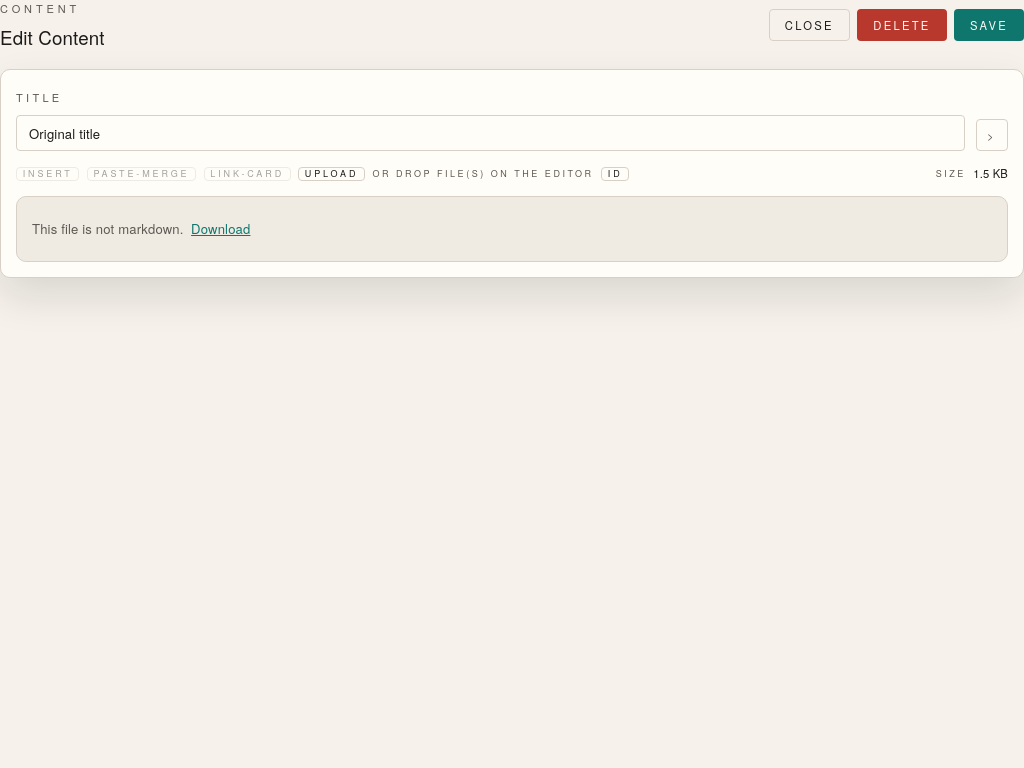
Scenario: ContentEditorView › saves and navigates away when save is selected
The width and height of the screenshot is (1024, 768).
Replace the text in the field labelled "Title" with "Updated title" at [490, 133], box [16,115,965,151]
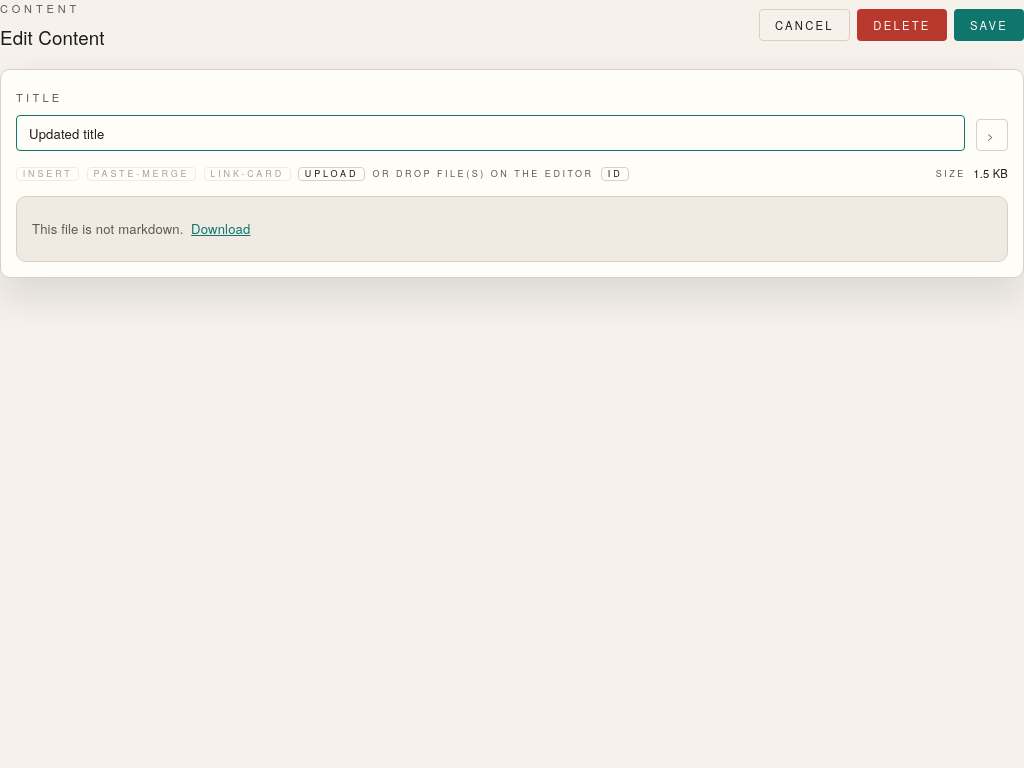
Click the button "Cancel" at [804, 25], box [759,9,850,41]
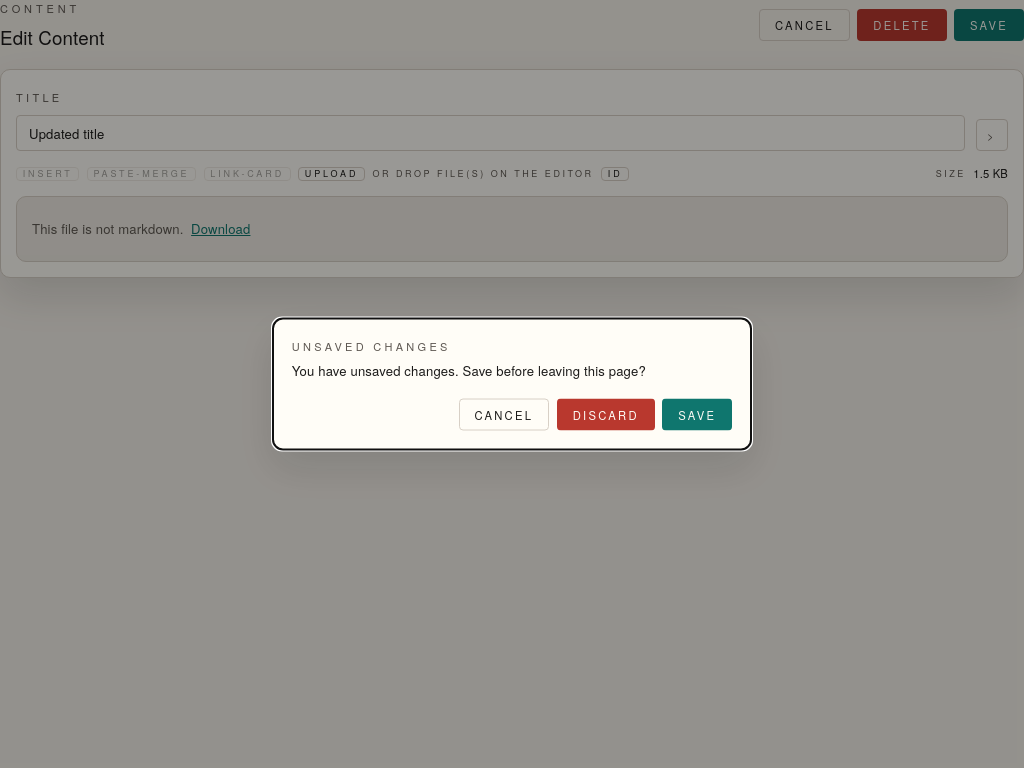
Click the button "Save" at [697, 415], box [662,399,732,431]
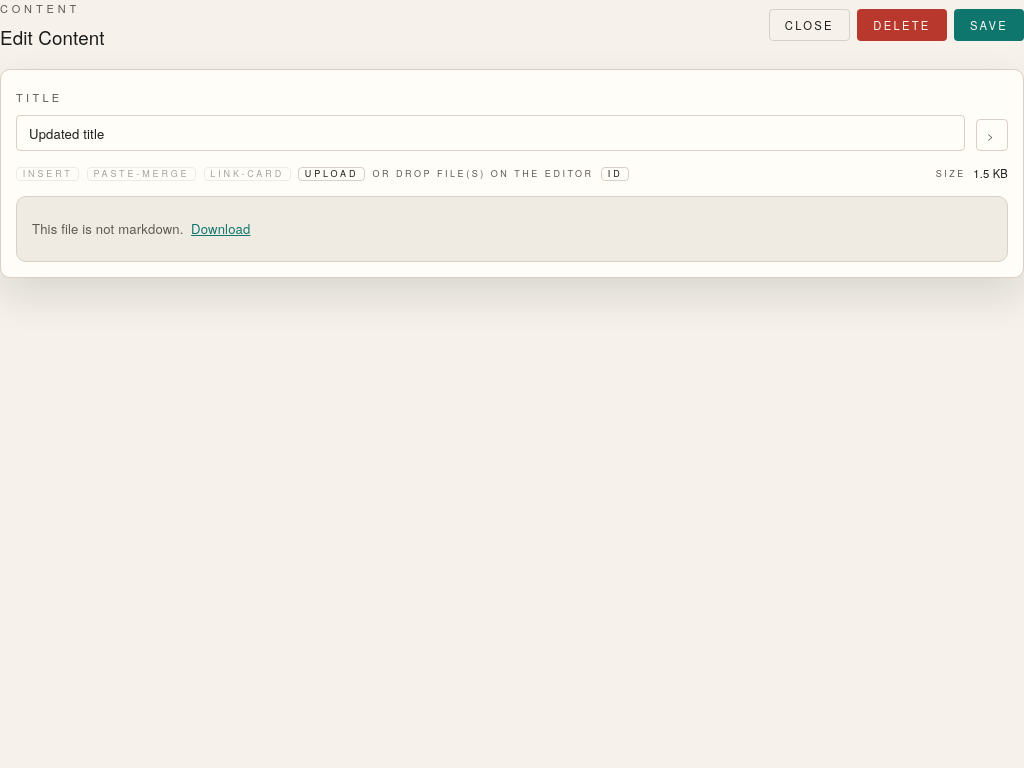
Expected: the text "Unsaved changes" is gone
